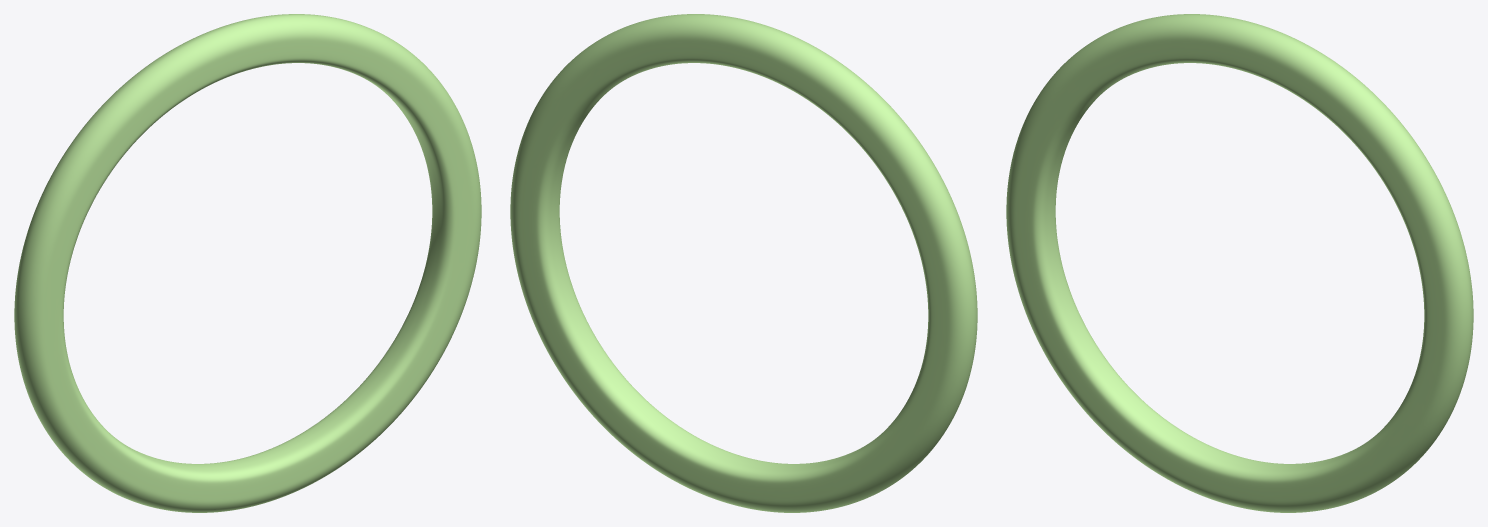
Rendered from BE2FM99_RENDER.glb.
3 renders of one model, left to right at view 1: azimuth 30°, elevation 25°; view 2: azimuth 150°, elevation 25°; view 3: azimuth 330°, elevation 25°, orthographic.
Visible parts, largest first — view 1: Metal03; view 2: Metal03; view 3: Metal03.
Boxes of the visible parts, x1,y1,x2,y2 form: Metal03: [14, 14, 481, 512]; Metal03: [510, 14, 977, 512]; Metal03: [1006, 14, 1473, 512].
Bounding box in the file's own units: 20.1 × 20.1 × 1.5.
